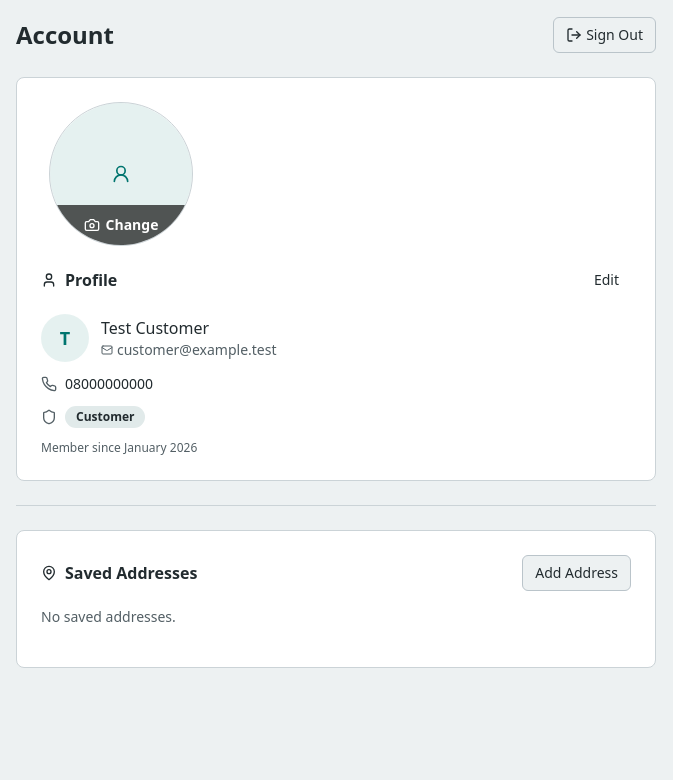
Test: account controls › opens a labelled address form and can cancel it
Click the button "Add Address".
click(577, 573)  # box x1=522 y1=555 x2=631 y2=591
(page scrolled)
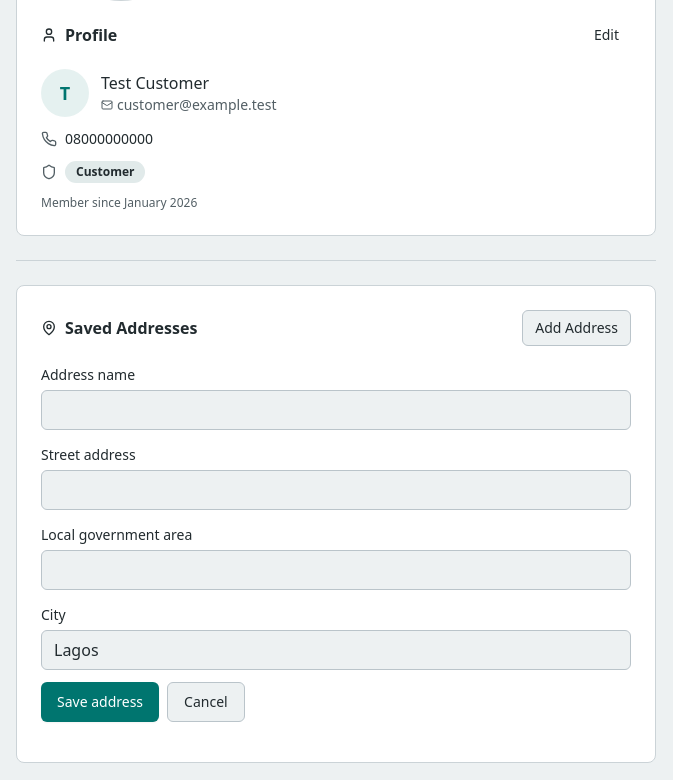
Expected: the field with id "address-full_address" is shown, x1=41 y1=470 x2=631 y2=510
Click the button "Cancel".
click(206, 702)  # box x1=167 y1=682 x2=245 y2=722
(page scrolled)
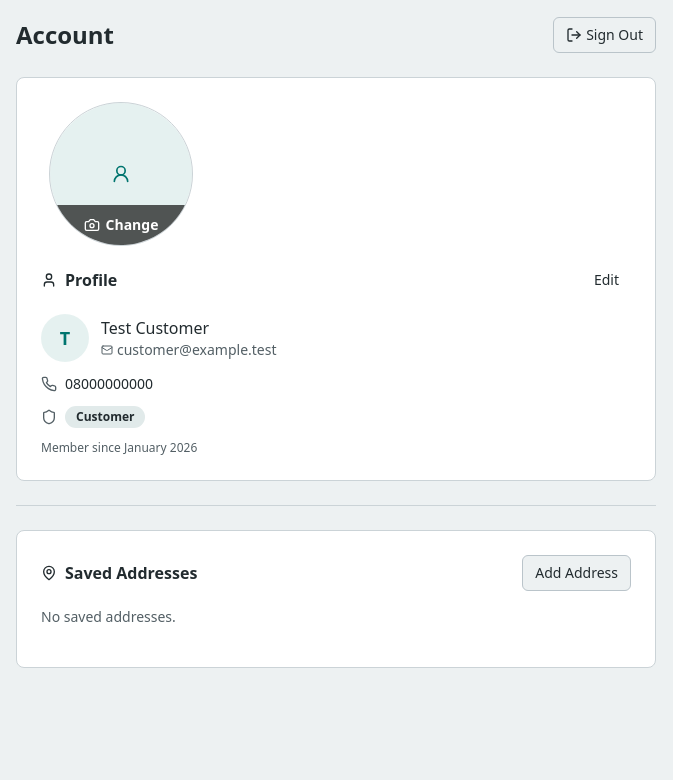
Expected: the label with id "address-full_address" is gone
